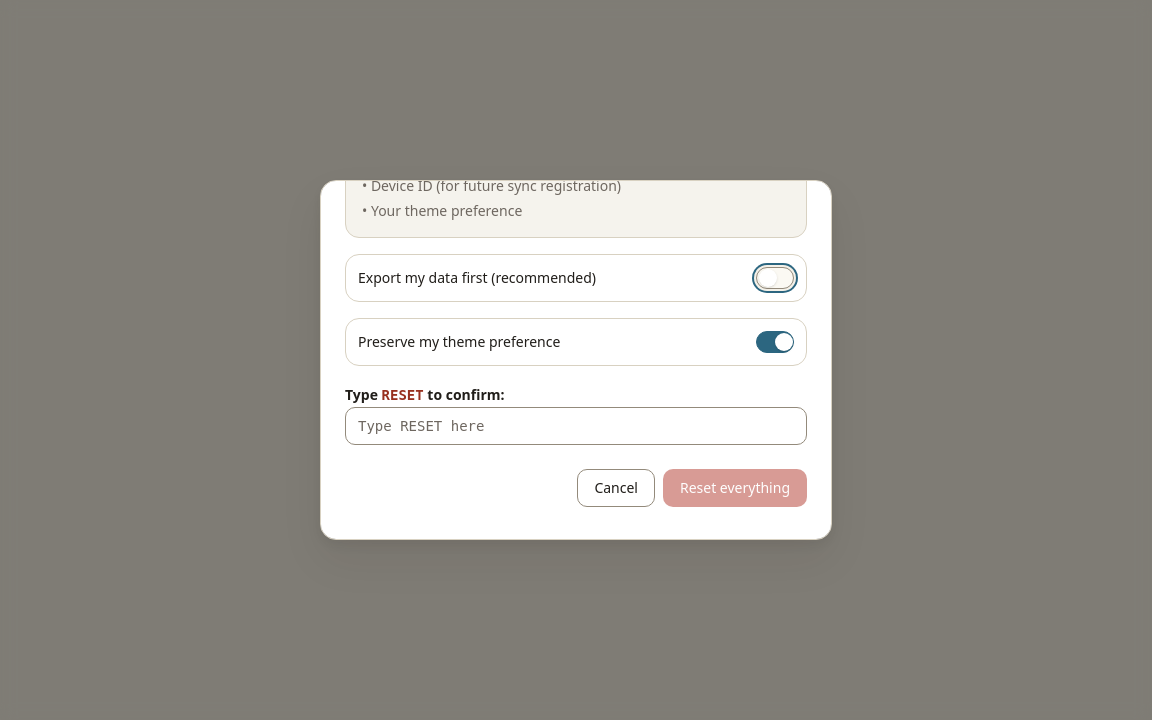
Test: ResetEverythingDialog › existing reset flows › should_clear_the_confirmation_and_close_when_cancel_is_clicked
The width and height of the screenshot is (1152, 720).
(page scrolled)
Type "RESET" into the field with placeholder "Type RESET here".
click(576, 426); type("RESET")  # box [345,407,807,445]
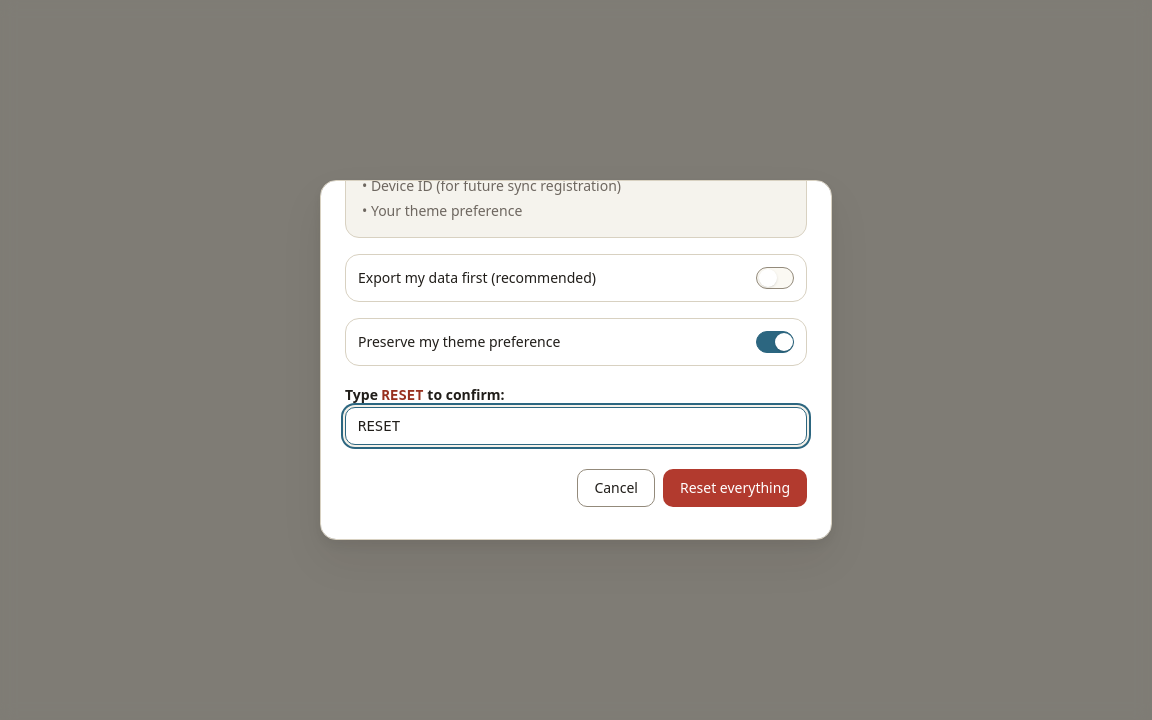
Click the button "Cancel".
click(616, 488)  # box [577,469,655,507]
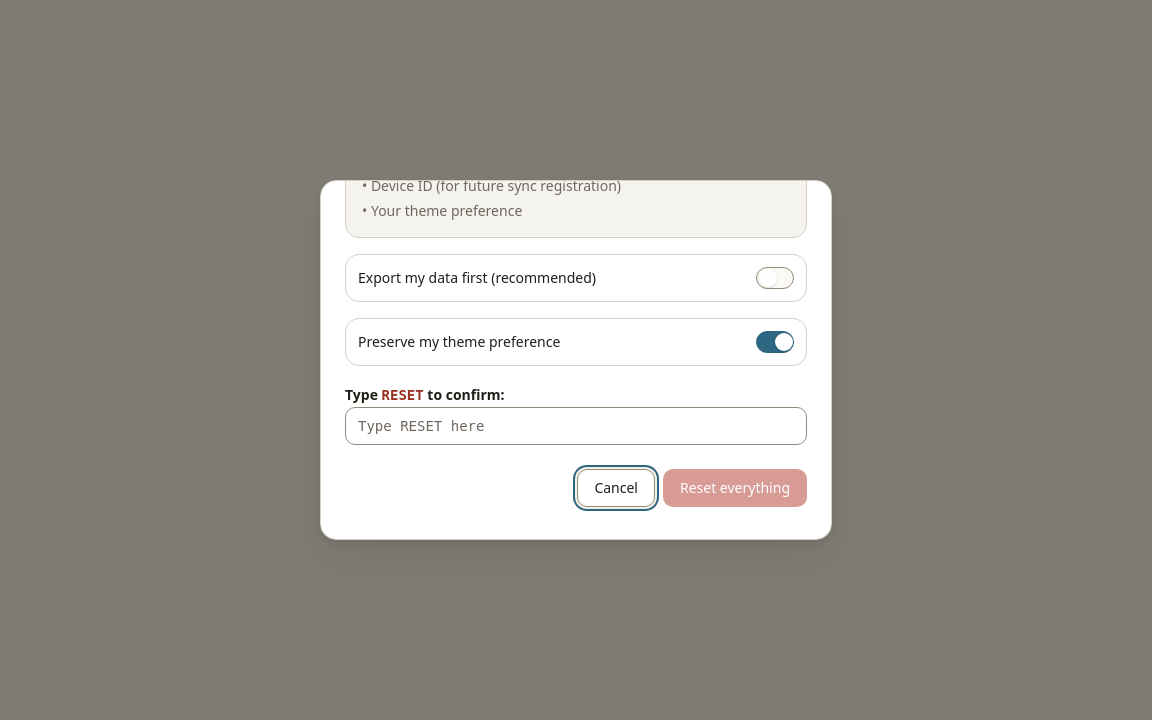
Result: the field with placeholder "Type RESET here" is empty at [345,407,807,445]
